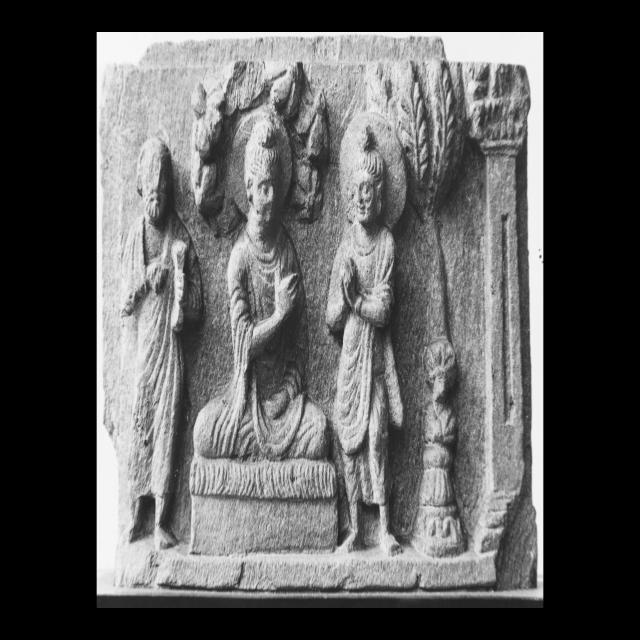buddha-sitting: (190, 109, 338, 552)
